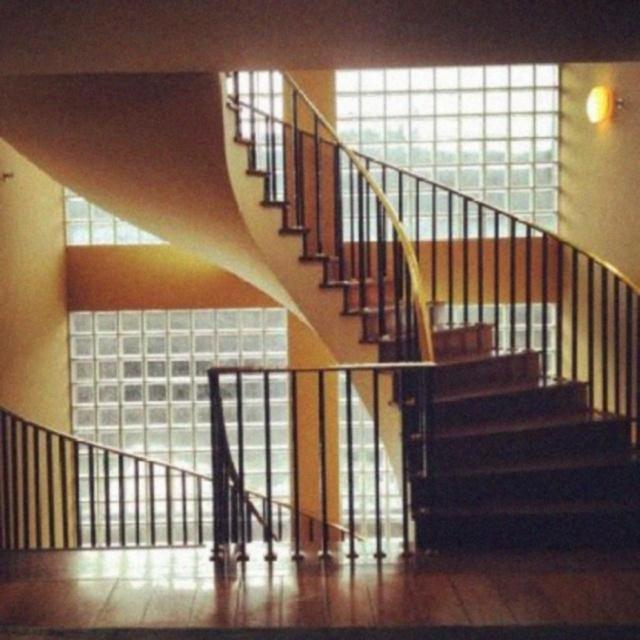stair: (229, 97, 640, 555)
